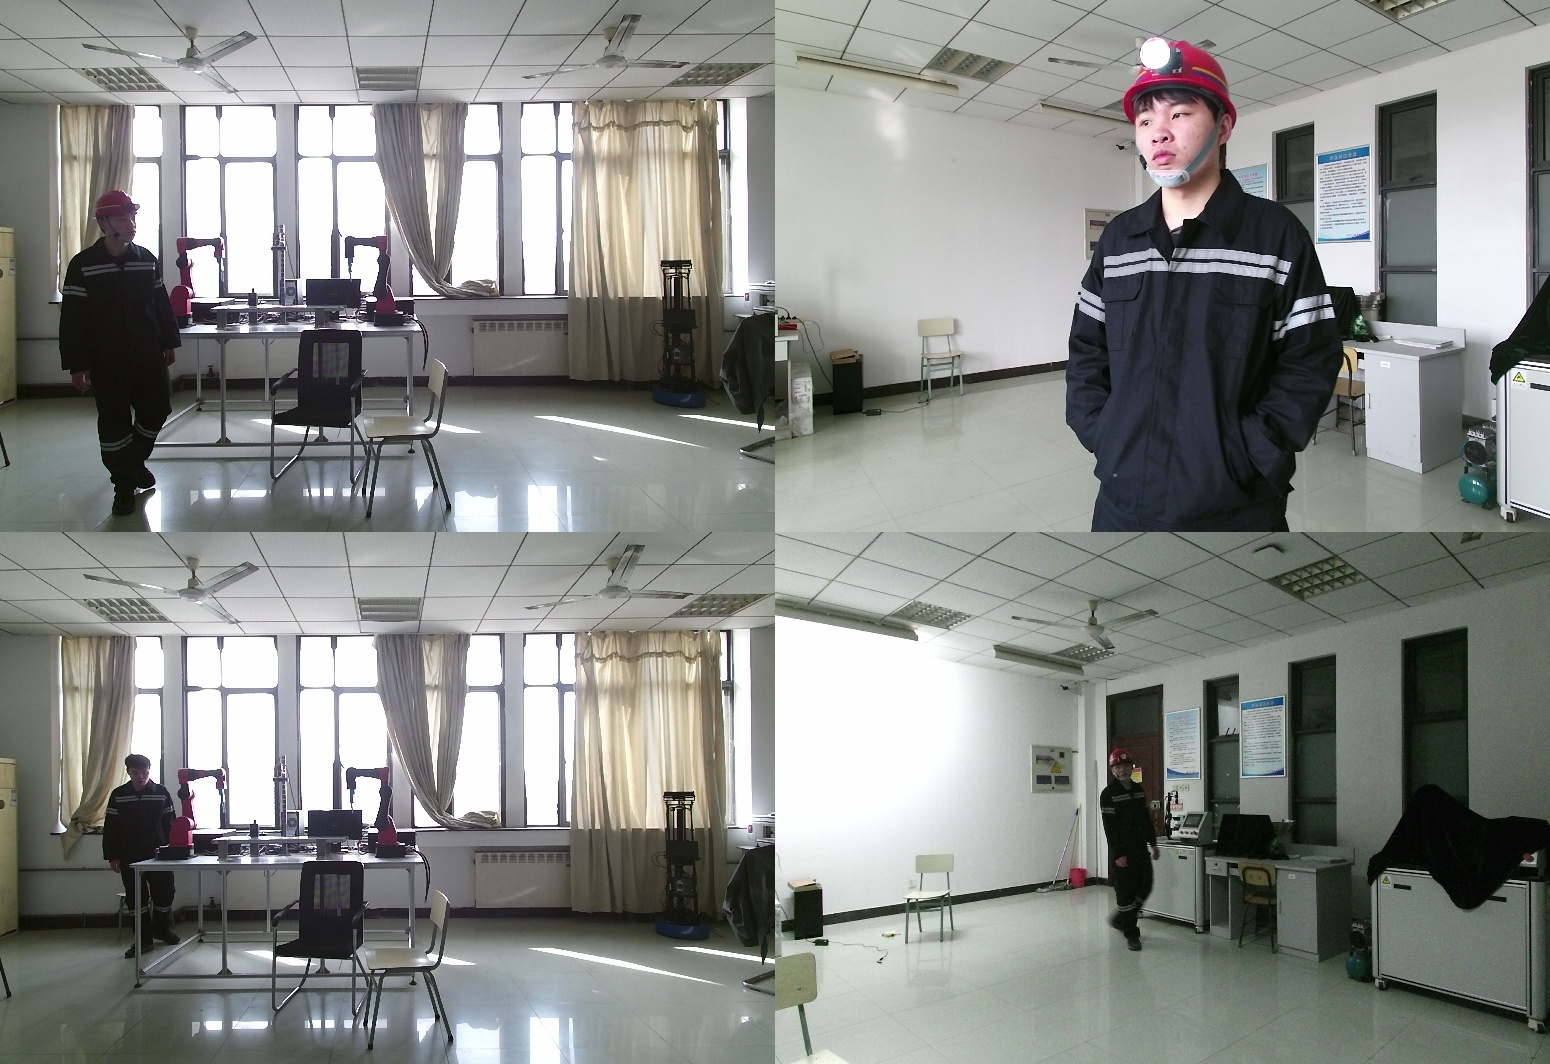person: (1076, 51, 1377, 532), (53, 189, 183, 524), (96, 754, 185, 957), (1097, 752, 1155, 961)
